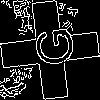G: (25, 25, 76, 70)
